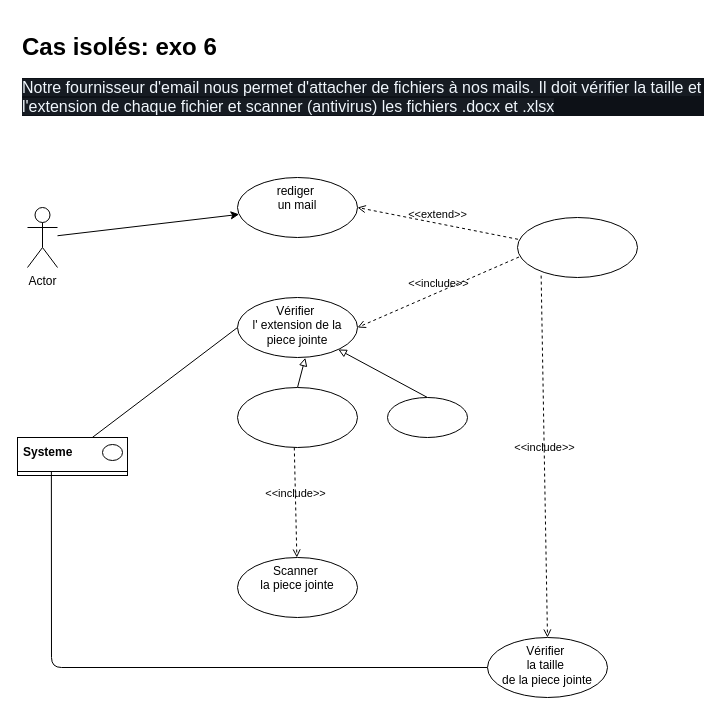
This 725x715 diagram has some shape labels left out. The centre of each missing label's shape, as x and y in pixels:
.docx ou .xlsw: point 297,417
autre: point 427,417
rajouter une piece jointe: point 577,247
